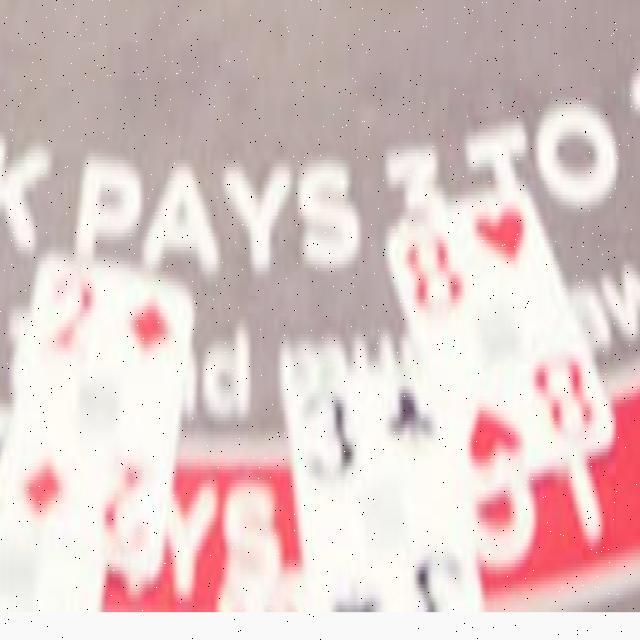Card-2: (0, 253, 193, 573)
Card-3: (289, 373, 484, 617)
Card-8: (385, 174, 616, 502)
